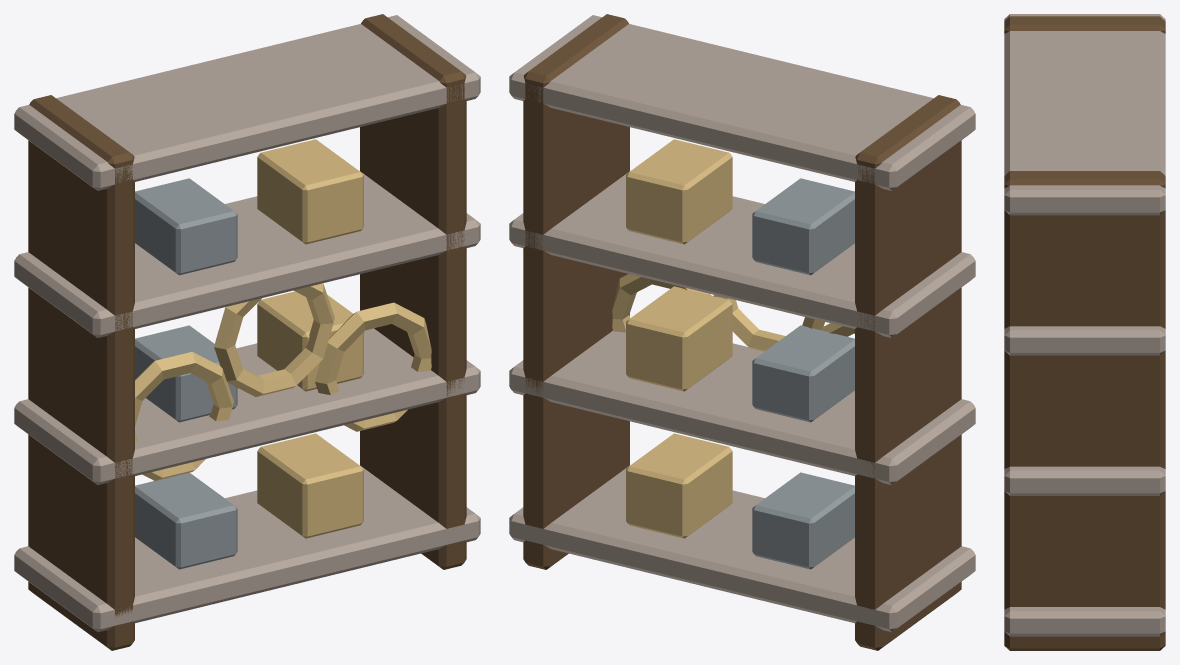
Rendered from town_rope_rack.glb.
3 renders of one model, left to right at view 1: azimuth 30°, elevation 25°; view 2: azimuth 150°, elevation 25°; view 3: azimuth 270°, elevation 25°, orthographic. The views are drawn at different scales.
Bounding box in the file's own units: 1.38 × 1.68 × 0.52.
